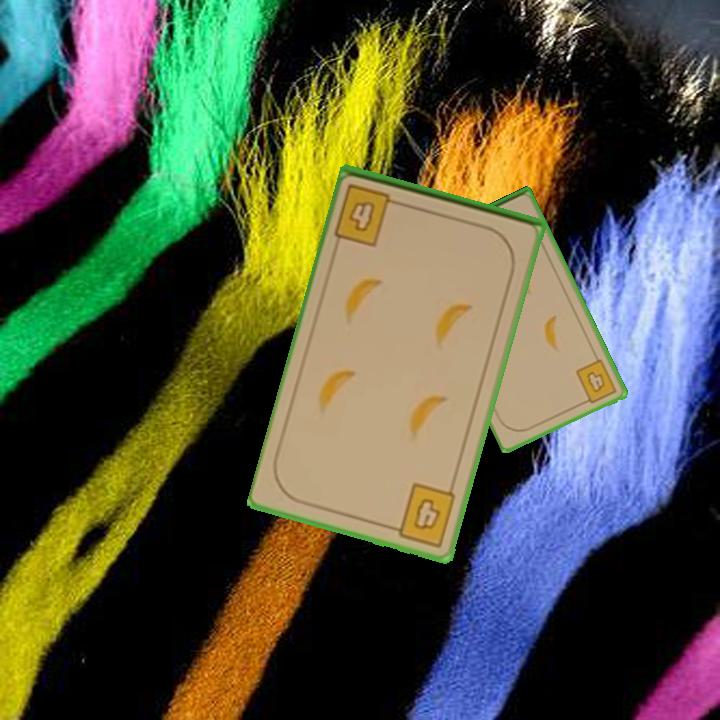4b: (331, 180, 407, 249), (386, 479, 459, 550), (572, 355, 620, 407)
